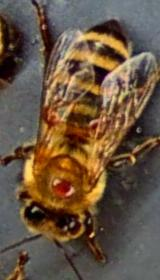varroa_mite: (42, 162, 84, 204), (80, 111, 116, 142), (38, 104, 66, 126)
